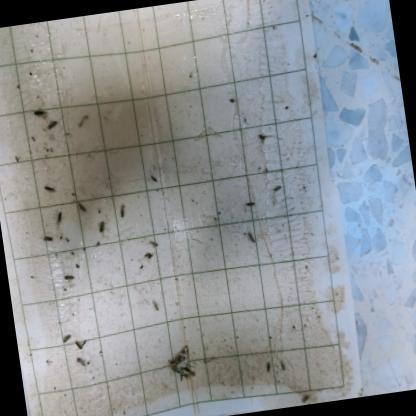prays_oleae: (242, 193, 263, 215), (40, 226, 58, 250), (61, 268, 80, 290), (75, 108, 94, 130), (32, 98, 48, 124), (54, 326, 74, 346), (46, 116, 62, 139), (146, 232, 160, 256), (50, 206, 66, 226), (74, 354, 90, 374), (115, 199, 127, 223), (95, 216, 107, 240), (246, 225, 258, 248), (276, 354, 289, 375), (46, 183, 60, 202), (74, 334, 88, 353), (262, 356, 274, 378), (271, 180, 284, 198), (143, 245, 156, 262), (149, 296, 161, 314), (76, 200, 87, 217), (148, 172, 158, 186)
